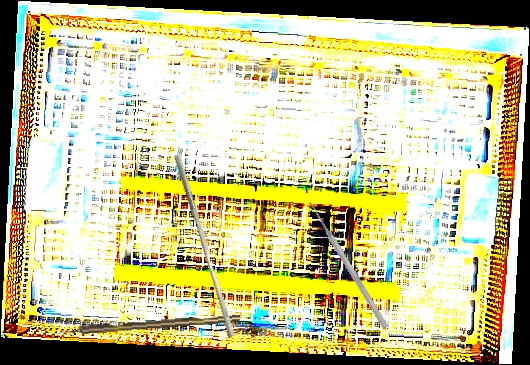Hook Surgical: (52, 313, 241, 337)
Pusher: (166, 153, 242, 339), (306, 199, 390, 330)
